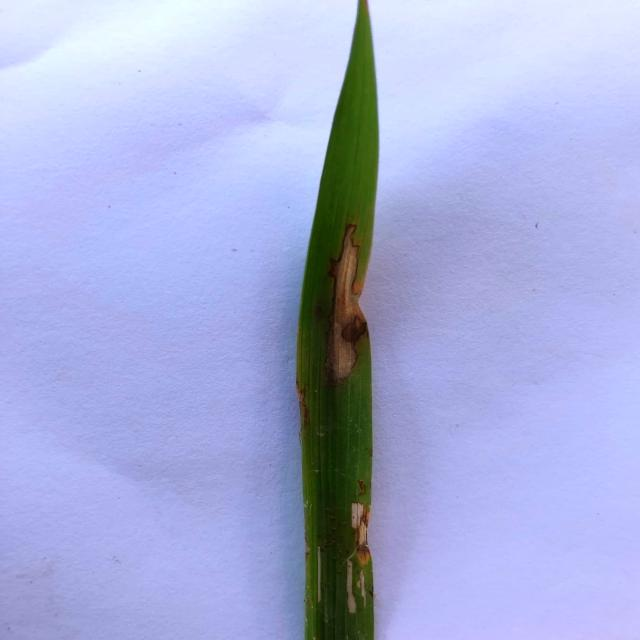leaf blight: (321, 222, 372, 383), (341, 502, 370, 617), (314, 545, 326, 608)
